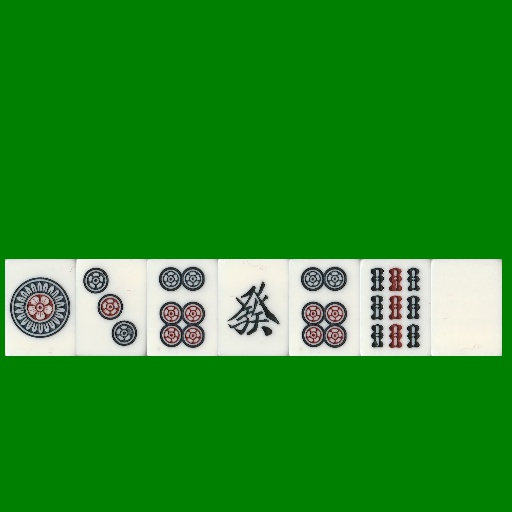1p: (5, 259, 76, 356)
3p: (76, 259, 147, 356)
6p: (147, 259, 218, 356), (289, 259, 360, 356)
9s: (360, 259, 431, 356)
hatsu: (218, 259, 289, 356)
white: (431, 259, 502, 356)
